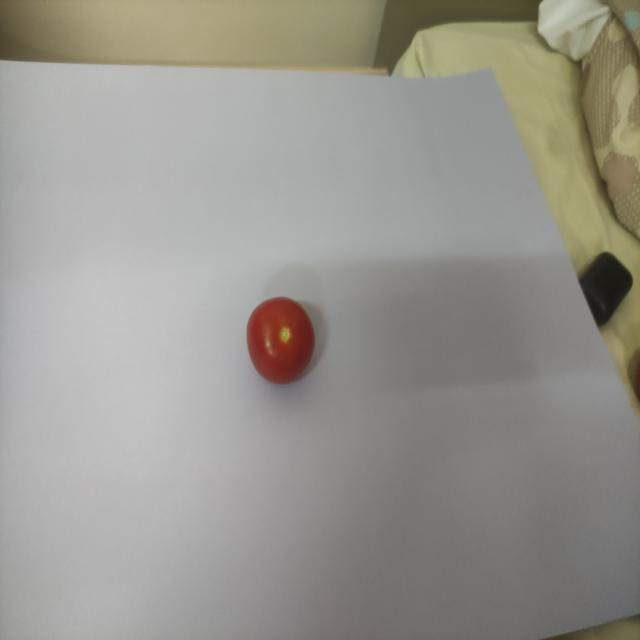kirmizi: (230, 284, 334, 389)
